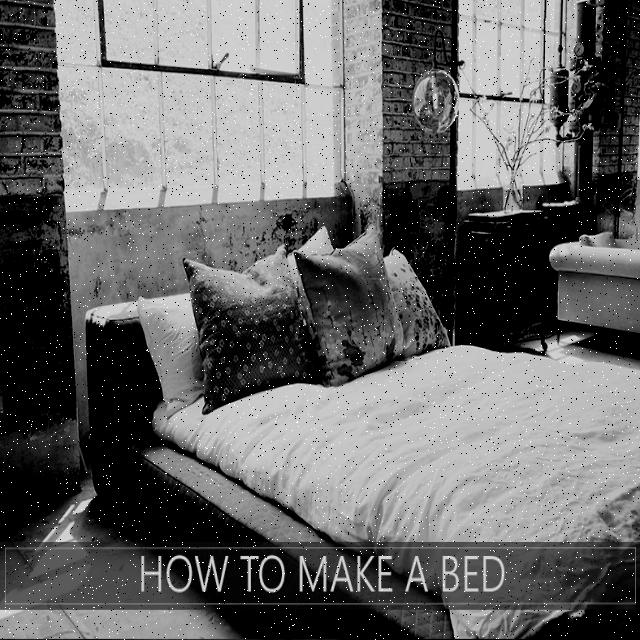bed: (131, 222, 640, 640)
